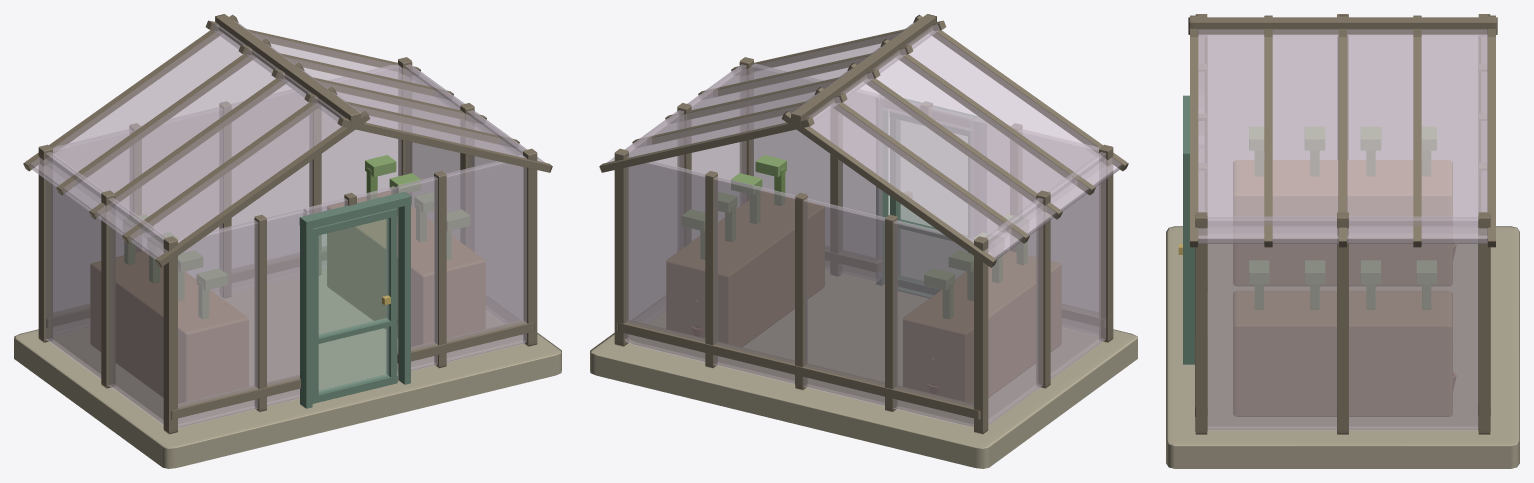
Rendered from greenhouse-1.glb.
3 views of the same model, side by side, from view 1: azimuth 30°, elevation 25°; view 2: azimuth 150°, elevation 25°; view 3: azimuth 270°, elevation 25° (orthographic). The views are drawn at different scales.
Parts seen in each view (by area): view 1: greenhouse-1-0, door-hinge, vegetable-crops; view 2: greenhouse-1-0, door-hinge, vegetable-crops; view 3: greenhouse-1-0, vegetable-crops.
Boxes of the visible parts, x1,y1,x2,y2 form: greenhouse-1-0: [14, 14, 561, 468]; door-hinge: [312, 208, 397, 403]; vegetable-crops: [124, 155, 469, 319]; greenhouse-1-0: [590, 14, 1137, 468]; door-hinge: [889, 112, 970, 294]; vegetable-crops: [682, 155, 1027, 319]; greenhouse-1-0: [1166, 14, 1519, 468]; vegetable-crops: [1249, 127, 1436, 309].
Size of the model in its own units: 2.8 by 2.01 by 1.9.
